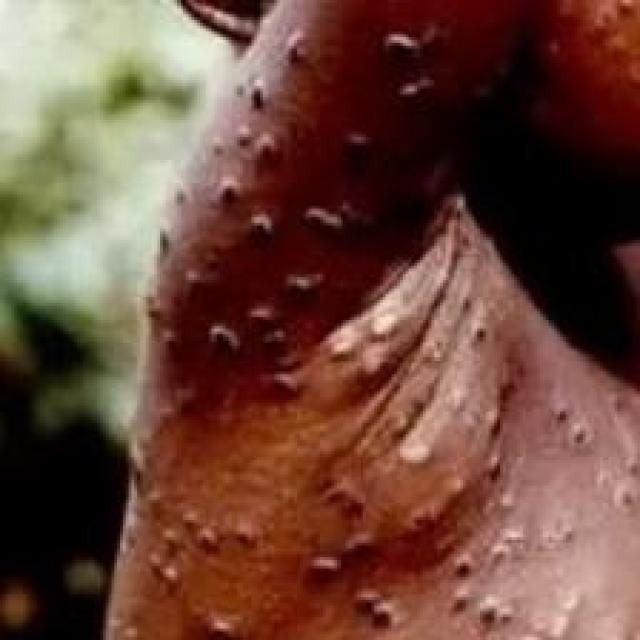monkeypox: (88, 8, 634, 640)
